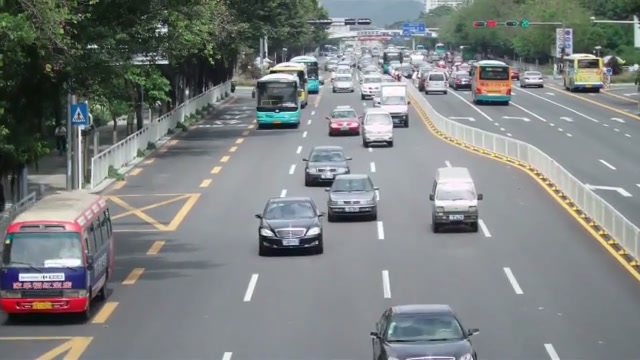bus: (0, 188, 115, 323), (255, 72, 301, 129), (470, 59, 512, 105), (269, 62, 308, 109), (562, 53, 604, 92), (291, 55, 320, 94)
car: (369, 304, 480, 360), (253, 196, 324, 257), (429, 165, 483, 233), (326, 173, 380, 222), (303, 145, 353, 186), (372, 84, 410, 128), (360, 108, 395, 148), (326, 105, 361, 136), (422, 71, 449, 95), (519, 70, 544, 88)
